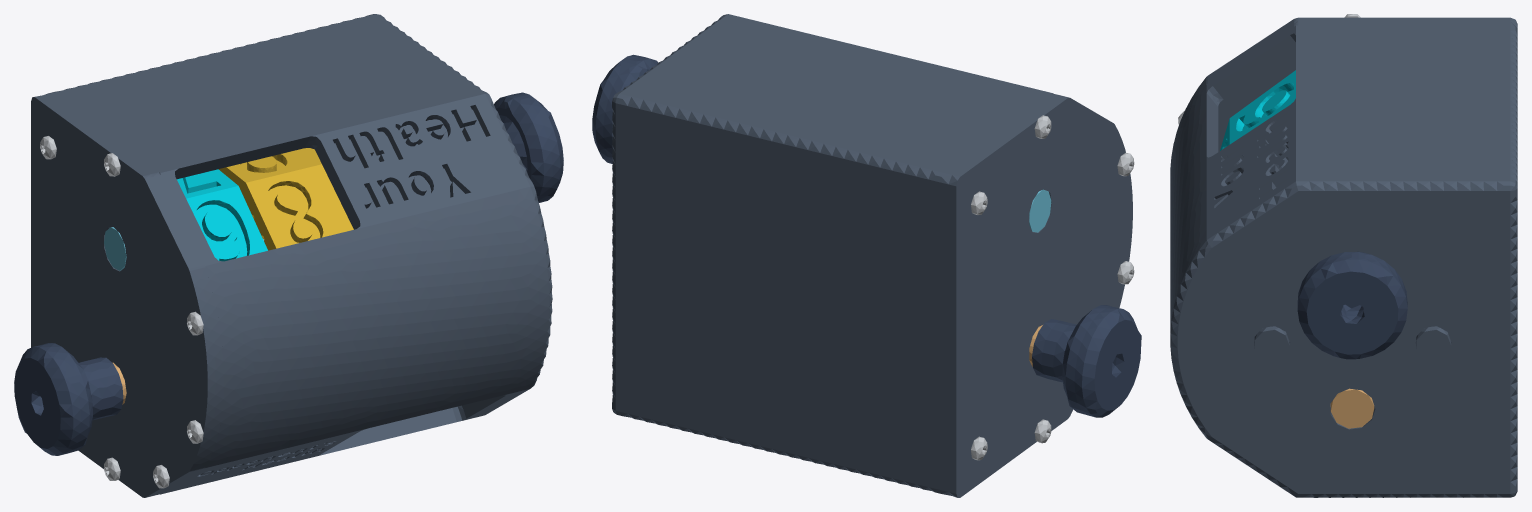
File: mtg-counter.glb
The picture shows the model from 3 angles, left to right: view 1: azimuth 30°, elevation 25°; view 2: azimuth 150°, elevation 25°; view 3: azimuth 270°, elevation 25°; orthographic projection.
Parts seen in each view (by area): view 1: Housing_8, HousingCap_5, Knob_7, Central_ring_15, Your_ring_11, Knob_19, TensDriveGear_16; view 2: Housing_8, HousingCap_5, Knob_7, Knob_19, TensDriveGear_16; view 3: Housing_8, Knob_19, HousingCap_5, Your_ring_11, OnesDriveAxle_24.
Part boxes in pixels (x1,y1,x2,y2): Housing_8: (49,14,552,494); HousingCap_5: (31,93,223,497); Knob_7: (14,343,123,455); Central_ring_15: (218,148,353,250); Your_ring_11: (177,169,267,261); Knob_19: (494,92,563,202); TensDriveGear_16: (104,227,264,270); Housing_8: (612,14,1053,493); HousingCap_5: (940,94,1132,497); Knob_7: (1032,305,1141,417); Knob_19: (592,54,658,163); TensDriveGear_16: (1029,189,1051,232); Housing_8: (1170,25,1517,497); Knob_19: (1297,251,1407,359); HousingCap_5: (1170,17,1517,361); Your_ring_11: (1220,70,1295,150); OnesDriveAxle_24: (1330,388,1374,428).
Size of the model in its own units: 98.74 by 61.12 by 60.09.
